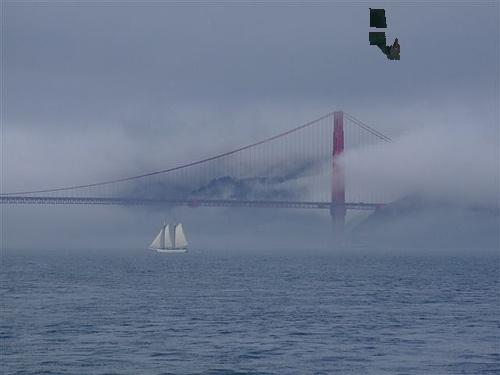tampered: (370, 9, 400, 60)
